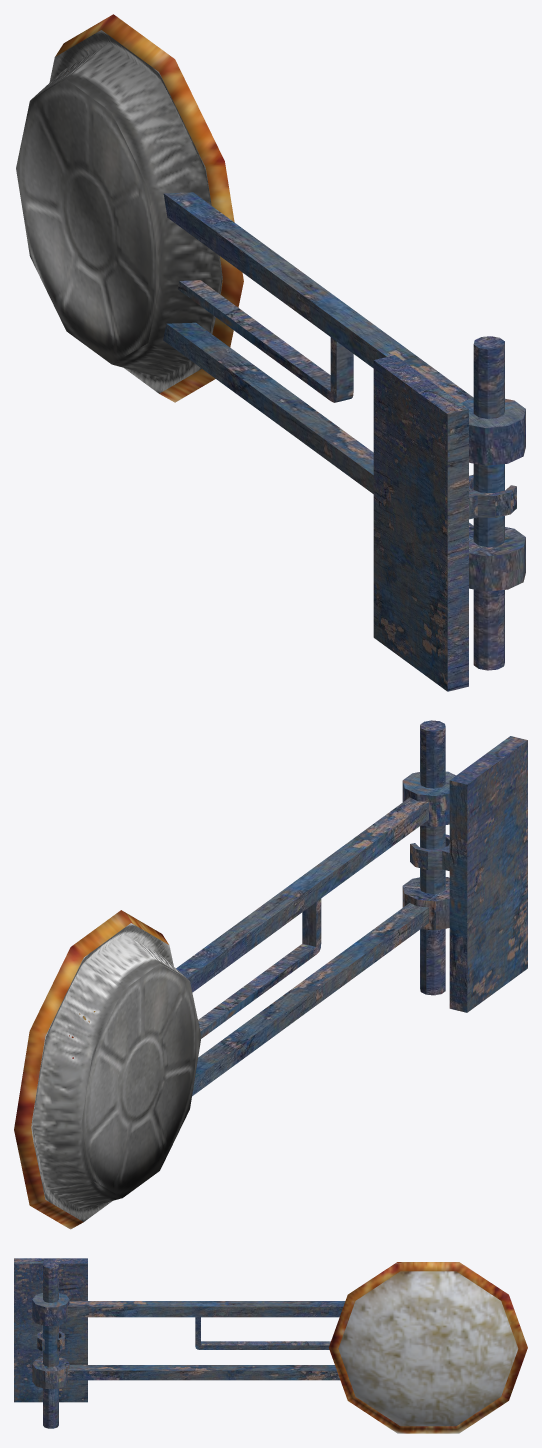
File: pie_mechanism.FBX
3 views of the same model, one above another, from view 1: azimuth 30°, elevation 25°; view 2: azimuth 150°, elevation 25°; view 3: azimuth 270°, elevation 25° (orthographic). The views are drawn at different scales.
Parts seen in each view (by area): view 1: pie, pie_mechanism_joint, pie_mechanism_clamp001; view 2: pie, pie_mechanism_joint, pie_mechanism_clamp001; view 3: coconut_creme, pie_mechanism_joint, pie_mechanism_clamp001, pie.
Boxes of the visible parts, left/top/right/bottom form: pie: left=16, top=14, right=243, bottom=402; pie_mechanism_joint: left=163, top=192, right=525, bottom=670; pie_mechanism_clamp001: left=373, top=355, right=516, bottom=691; pie: left=14, top=910, right=201, bottom=1229; pie_mechanism_joint: left=176, top=720, right=455, bottom=1096; pie_mechanism_clamp001: left=410, top=736, right=527, bottom=1012; coconut_creme: left=338, top=1271, right=518, bottom=1426; pie_mechanism_joint: left=32, top=1261, right=345, bottom=1428; pie_mechanism_clamp001: left=14, top=1258, right=87, bottom=1402; pie: left=328, top=1262, right=527, bottom=1433.
Size of the model in its own units: 11.72 by 26.56 by 72.04.
